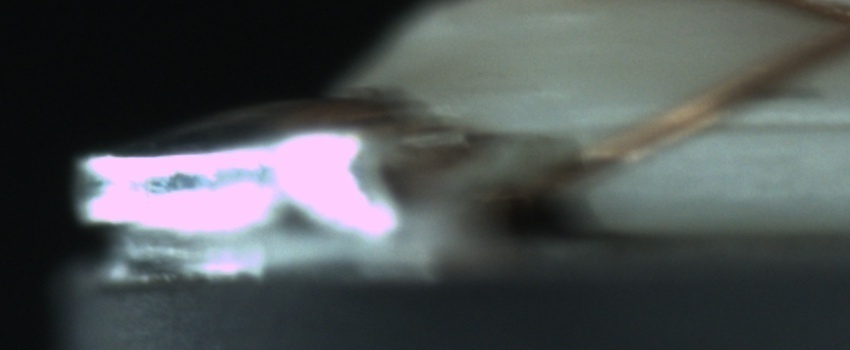DL: (678, 93, 850, 158)
